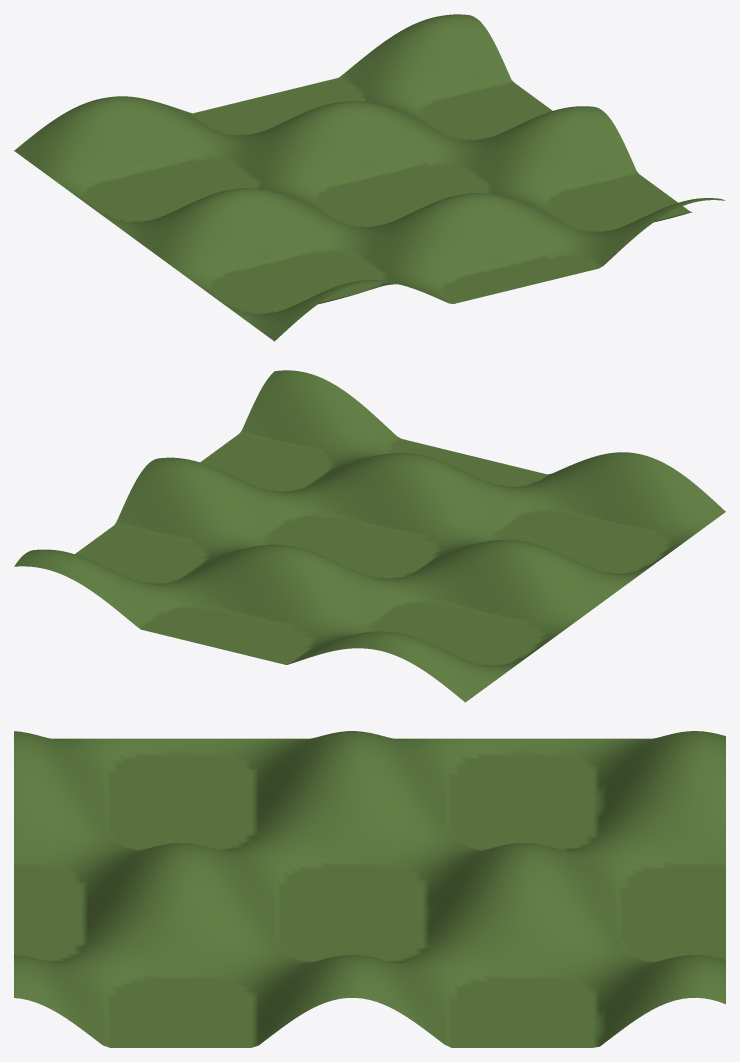
File: terrain-tiles.gltf
3 renders of one model, top to bottom at view 1: azimuth 30°, elevation 25°; view 2: azimuth 150°, elevation 25°; view 3: azimuth 270°, elevation 25°, orthographic. The views are drawn at different scales.
Visible parts, largest first — view 1: tile 0_0, tile 1_2, tile 2_0, tile 2_1, tile 1_1, tile 0_1, tile 1_0, tile 2_2, tile 0_2; view 2: tile 1_0, tile 0_2, tile 2_2, tile 2_1, tile 0_1, tile 1_2, tile 1_1, tile 2_0, tile 0_0; view 3: tile 1_1, tile 2_2, tile 0_2, tile 0_0, tile 2_0, tile 0_1, tile 1_0, tile 1_2, tile 2_1.
Part boxes in pixels (box(x1,y1,x2,y2)): tile 0_0: box(14, 96, 250, 217); tile 1_2: box(338, 193, 574, 303); tile 2_0: box(315, 14, 551, 135); tile 2_1: box(402, 106, 638, 196); tile 1_1: box(251, 120, 465, 244); tile 0_1: box(101, 184, 337, 277); tile 1_0: box(167, 83, 401, 183); tile 2_2: box(507, 174, 725, 274); tile 0_2: box(188, 245, 423, 341); tile 1_0: box(165, 544, 401, 664); tile 0_2: box(495, 452, 725, 575); tile 2_2: box(200, 370, 424, 495); tile 2_1: box(101, 457, 337, 560); tile 0_1: box(402, 539, 638, 641); tile 1_2: box(338, 444, 574, 541); tile 1_1: box(288, 496, 486, 608); tile 2_0: box(14, 535, 244, 635); tile 0_0: box(315, 608, 551, 702); tile 1_1: box(251, 823, 488, 947); tile 2_2: box(14, 908, 251, 1047); tile 0_2: box(14, 731, 251, 847); tile 0_0: box(488, 731, 725, 847); tile 2_0: box(488, 908, 725, 1047); tile 0_1: box(251, 731, 488, 847); tile 1_0: box(488, 823, 725, 947); tile 1_2: box(14, 823, 251, 947); tile 2_1: box(251, 915, 488, 1047).
Size of the model in its own units: 768 by 69.97 by 768.
1 material, 1 textured.
